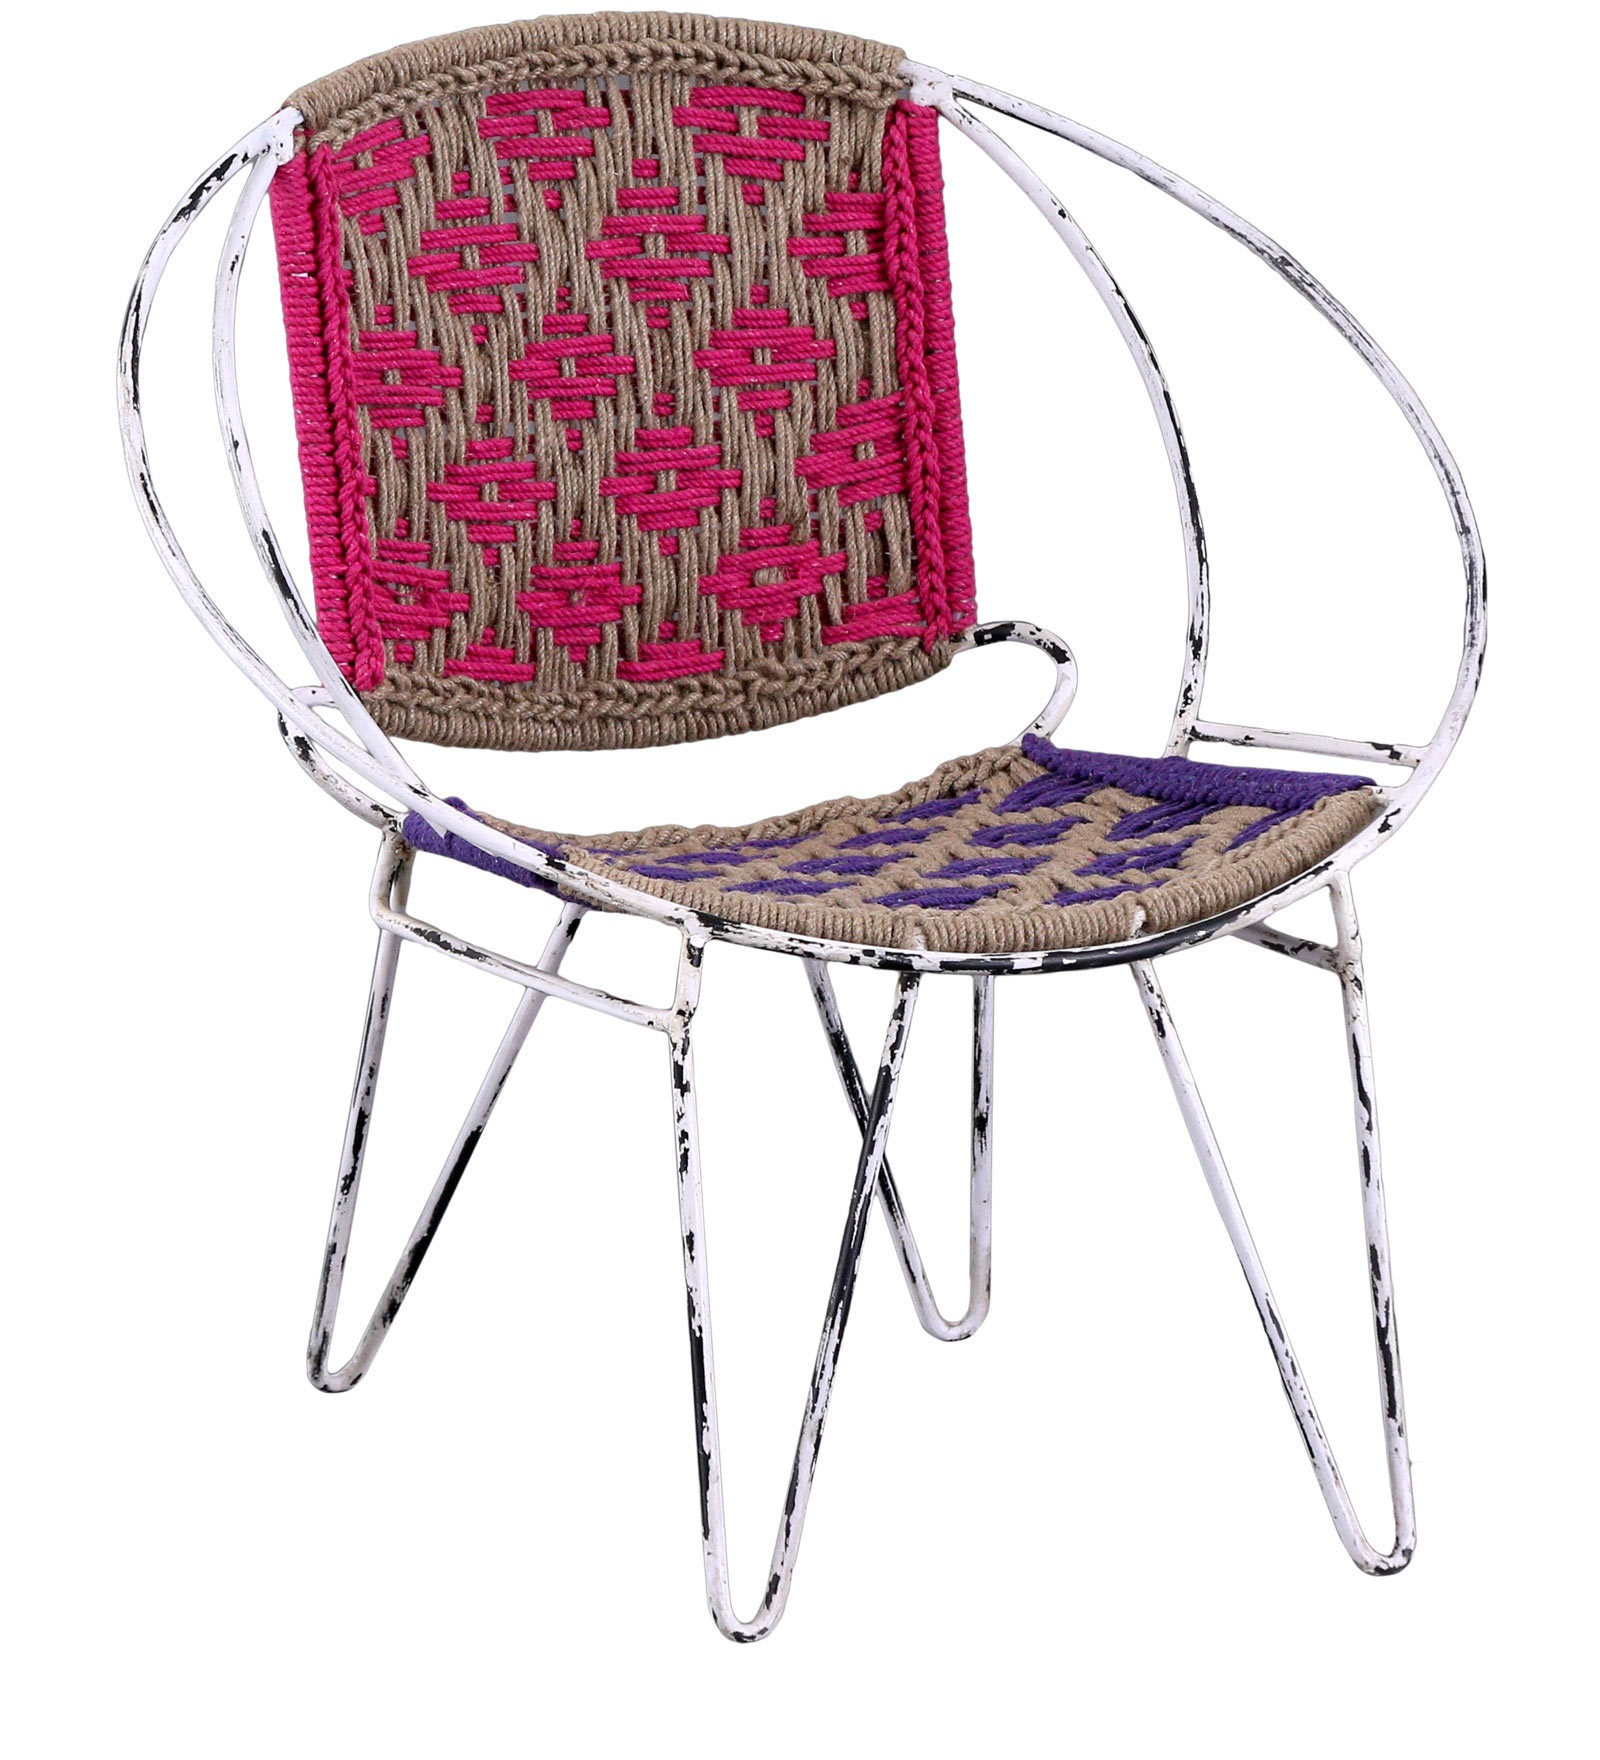Ambatovy Outdoor Chair in Multicolour by Bohemiana: (63, 9, 1511, 1656)
